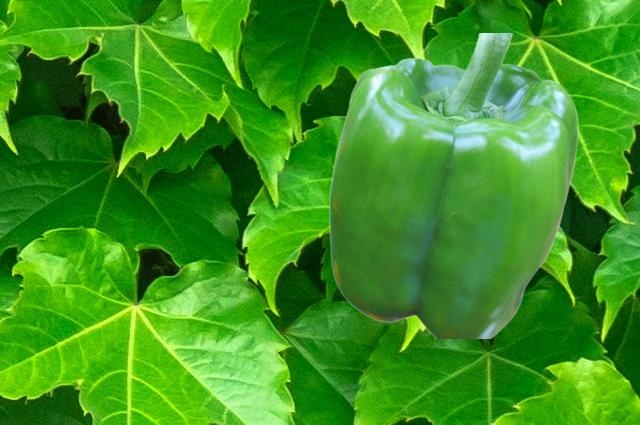bell_pepper: (328, 33, 577, 337)
